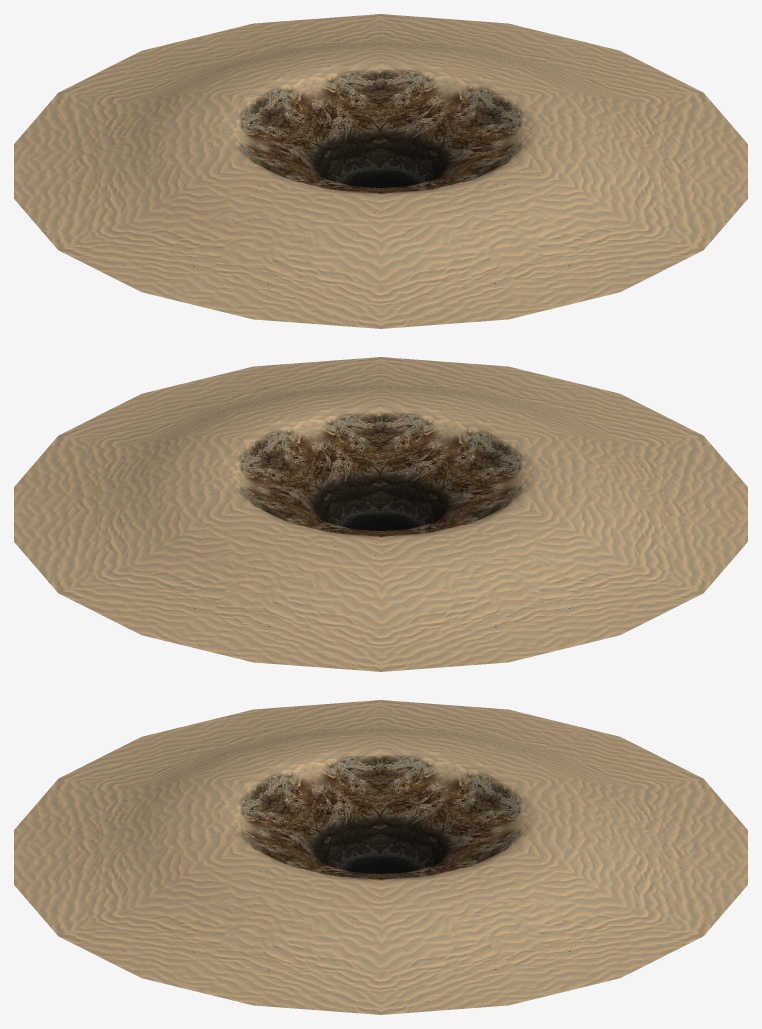
File: Desert_hole.FBX
3 views of the same model, one above another, from view 1: azimuth 30°, elevation 25°; view 2: azimuth 150°, elevation 25°; view 3: azimuth 270°, elevation 25° (orthographic).
Parts seen in each view (by area): view 1: Cylinder001; view 2: Cylinder001; view 3: Cylinder001.
Part boxes in pixels (bbox=[...]): Cylinder001: bbox=[14, 14, 747, 328]; Cylinder001: bbox=[14, 357, 747, 671]; Cylinder001: bbox=[14, 700, 747, 1014].
Bounding box in the file's own units: 74.22 × 7.01 × 73.09.
1 material, 1 textured.
